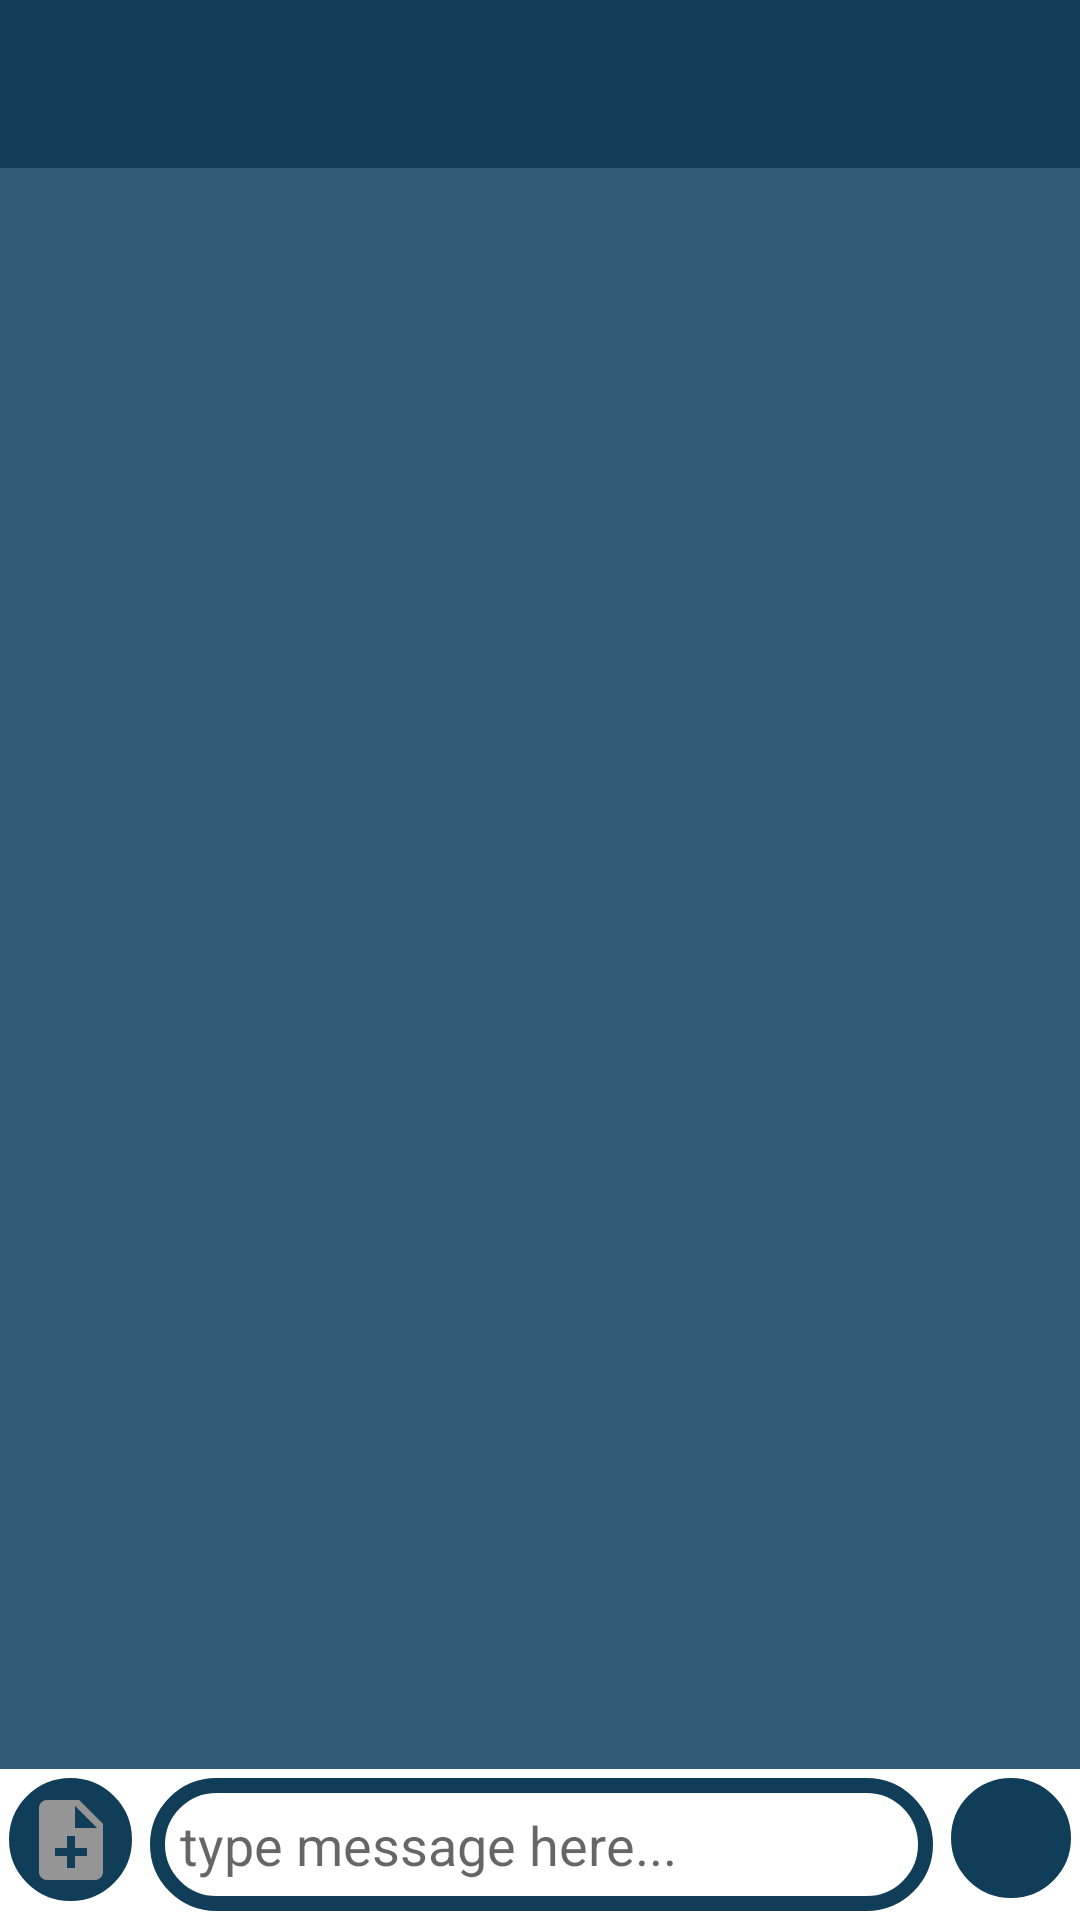

Icons on this 1080px x 1920px Android screen, each with its box as (x1, y1, x2, y2):
note add: (9, 1778, 132, 1901)
